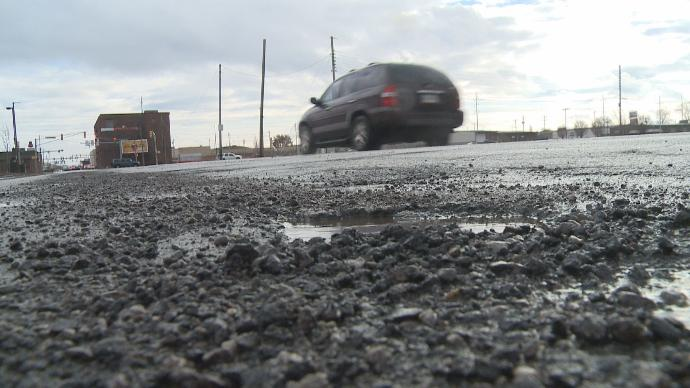pothole: (252, 192, 412, 254), (451, 183, 554, 249)
